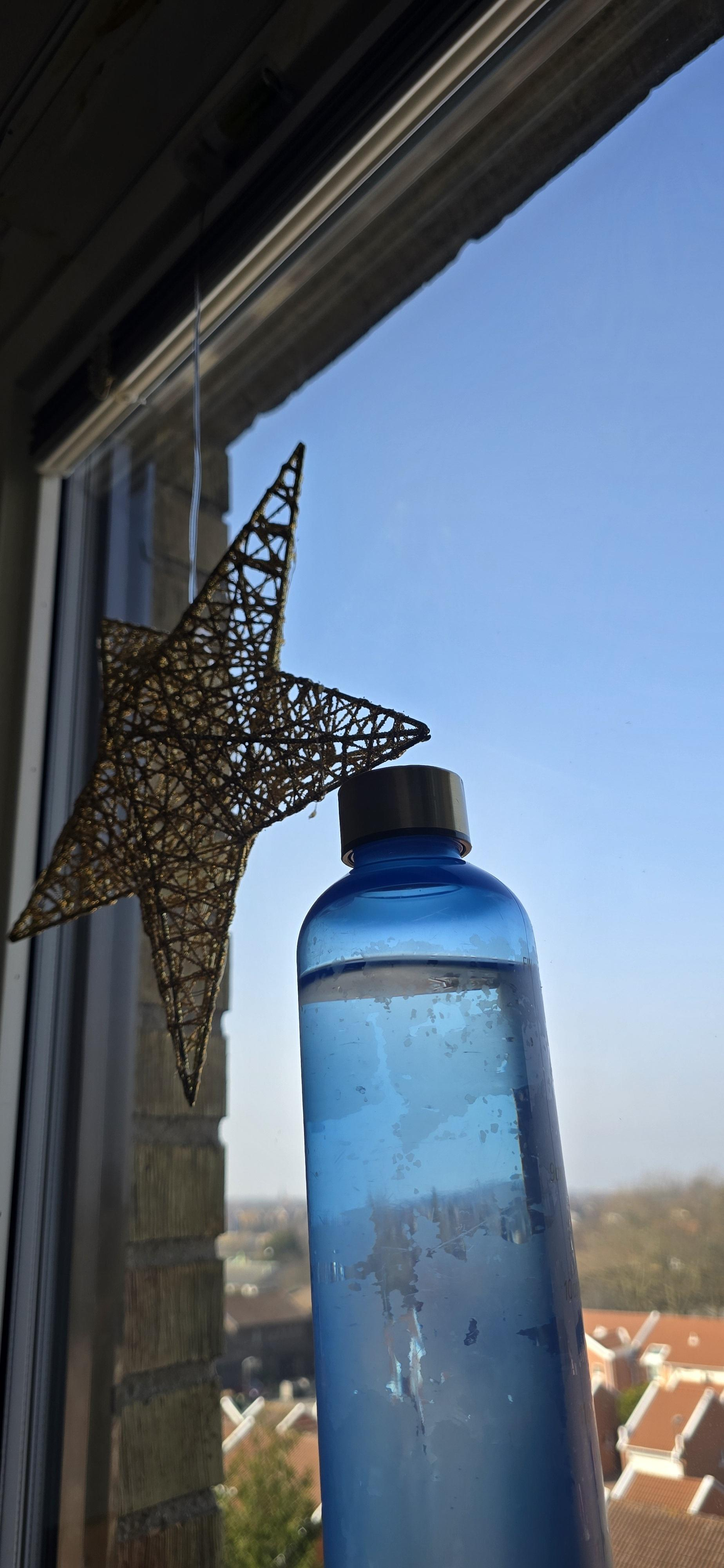bottle: (298, 726, 652, 1568)
